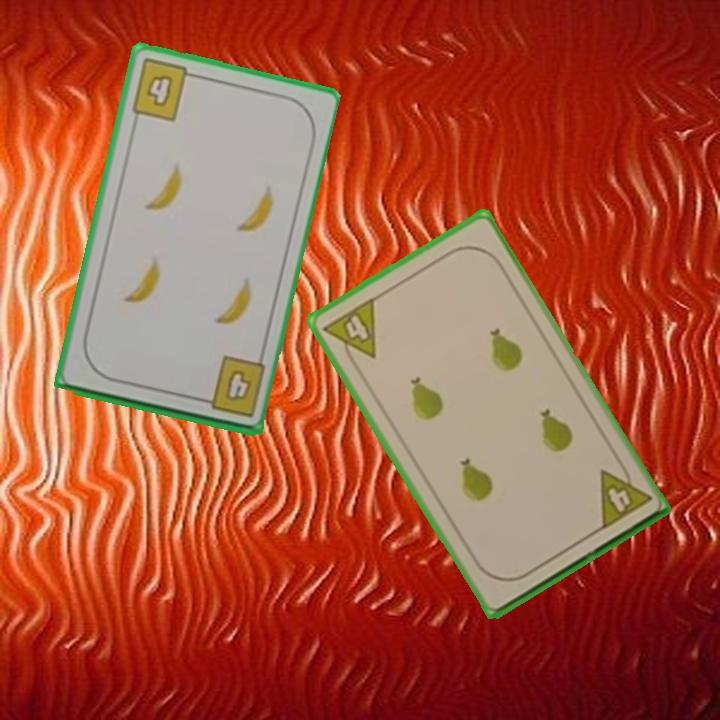4b: (127, 55, 201, 124), (194, 352, 268, 420)
4p: (319, 293, 379, 372), (595, 457, 654, 533)
